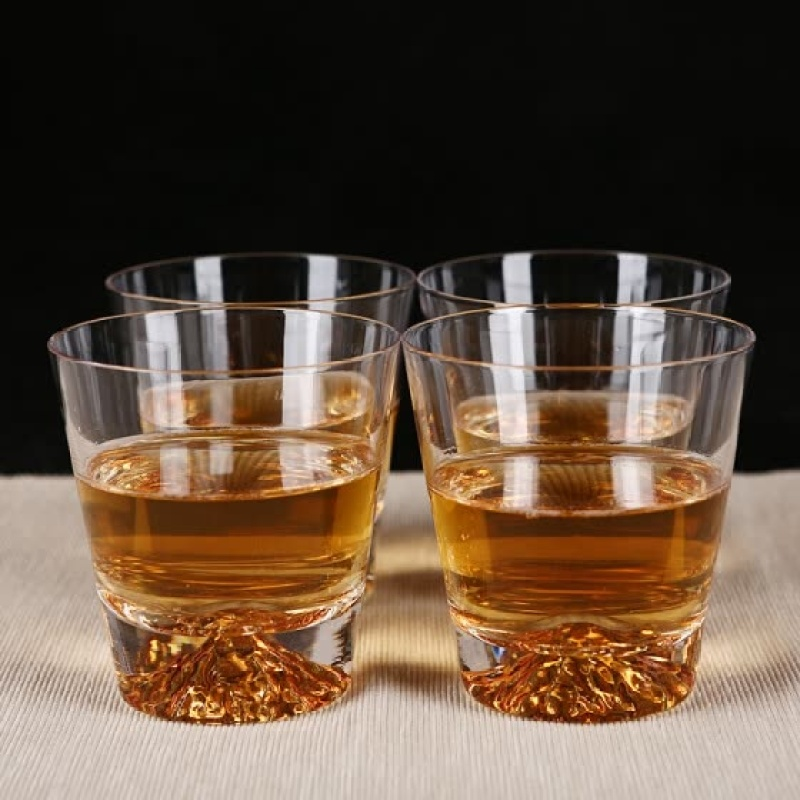whiskey: (54, 310, 397, 727), (419, 309, 764, 720)
